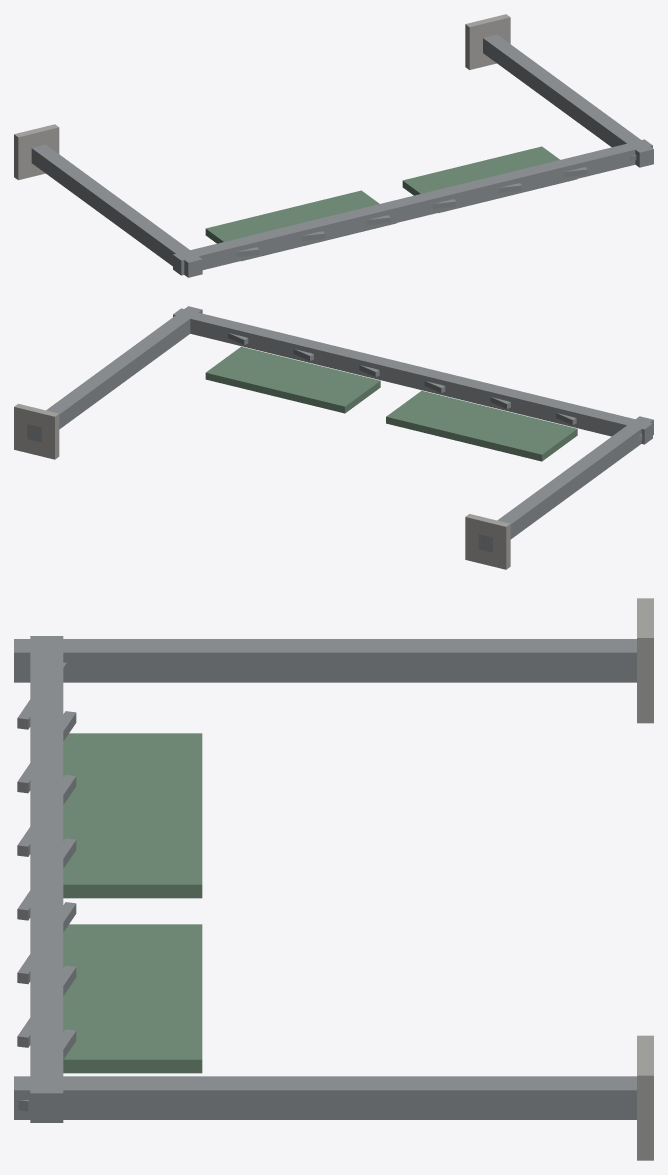
The model's file is SM_Taiwan_FreewaySignGantry_HQ.glb.
3 views of the same model, one above another, from view 1: azimuth 30°, elevation 25°; view 2: azimuth 150°, elevation 25°; view 3: azimuth 270°, elevation 25° (orthographic). The views are drawn at different scales.
Parts seen in each view (by area): view 1: crossbeam, post_-5.5, post_5.5, sign_A, sign_B, foot_-5.5, foot_5.5; view 2: crossbeam, sign_A, sign_B, post_5.5, post_-5.5, foot_-5.5, foot_5.5; view 3: post_-5.5, post_5.5, sign_A, sign_B, crossbeam, foot_-5.5, foot_5.5.
Boxes of the visible parts, bbox=[...] form: crossbeam: bbox=[173, 139, 652, 275]; post_-5.5: bbox=[31, 144, 202, 277]; post_5.5: bbox=[483, 34, 653, 167]; sign_A: bbox=[205, 190, 396, 261]; sign_B: bbox=[402, 146, 577, 213]; foot_-5.5: bbox=[14, 124, 59, 180]; foot_5.5: bbox=[465, 14, 510, 69]; crossbeam: bbox=[173, 308, 652, 444]; sign_A: bbox=[386, 390, 577, 461]; sign_B: bbox=[205, 346, 380, 413]; post_5.5: bbox=[27, 306, 202, 442]; post_-5.5: bbox=[478, 416, 653, 552]; foot_-5.5: bbox=[465, 514, 510, 569]; foot_5.5: bbox=[14, 403, 59, 459]; post_-5.5: bbox=[14, 639, 636, 682]; post_5.5: bbox=[14, 1076, 636, 1119]; sign_A: bbox=[63, 733, 202, 898]; sign_B: bbox=[63, 924, 202, 1073]; crossbeam: bbox=[30, 636, 63, 1122]; foot_-5.5: bbox=[637, 598, 653, 723]; foot_5.5: bbox=[637, 1035, 653, 1160].
Bounding box in the file's own units: 12 × 1 × 6.8.
